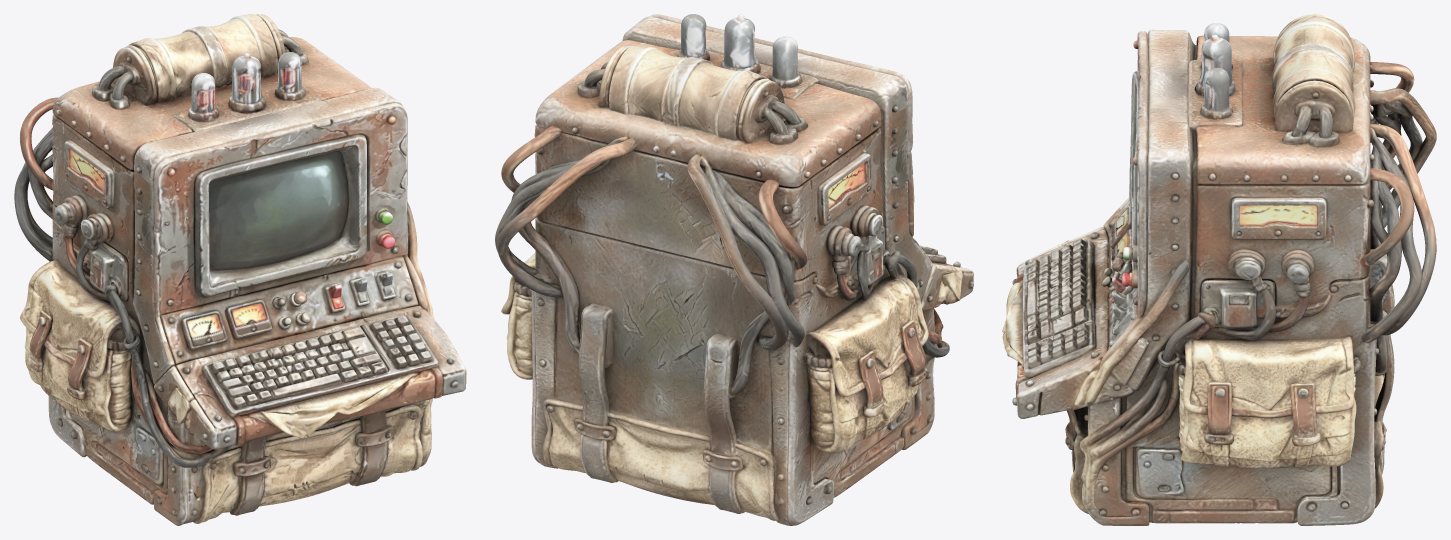
The model's file is prop_computer_terminal_shaded.glb.
3 views of the same model, side by side, from view 1: azimuth 30°, elevation 25°; view 2: azimuth 150°, elevation 25°; view 3: azimuth 270°, elevation 25° (orthographic). The views are drawn at different scales.
Visible parts, largest first — view 1: model; view 2: model; view 3: model.
Part boxes in pixels (x1=…): model: x1=14, y1=14, x2=466, y2=525; model: x1=495, y1=14, x2=973, y2=525; model: x1=1002, y1=14, x2=1436, y2=525.
Size of the model in its own units: 1.7 by 1.9 by 1.75.
Materials: 1 (1 with a texture image).
